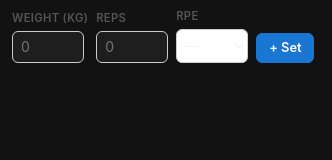
Test: SetLogForm › resets form fields after successful submission
The image size is (332, 160).
Type "80" into the number field labelled "Weight (kg)" at (48, 47), box top-left (12, 31), bottom-right (84, 63)
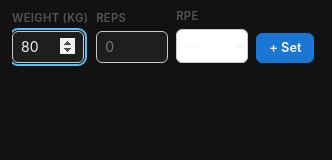
Type "5" into the number field labelled "Reps" at (132, 47), box top-left (96, 31), bottom-right (168, 63)
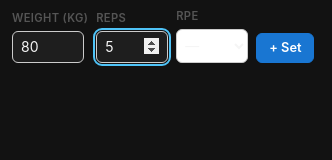
Click the button "+ Set" at (285, 48), box top-left (256, 33), bottom-right (314, 63)
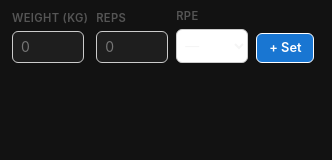
Result: the number field labelled "Weight (kg)" is not empty at top-left (12, 31), bottom-right (84, 63)
Result: the number field labelled "Reps" is not empty at top-left (96, 31), bottom-right (168, 63)
